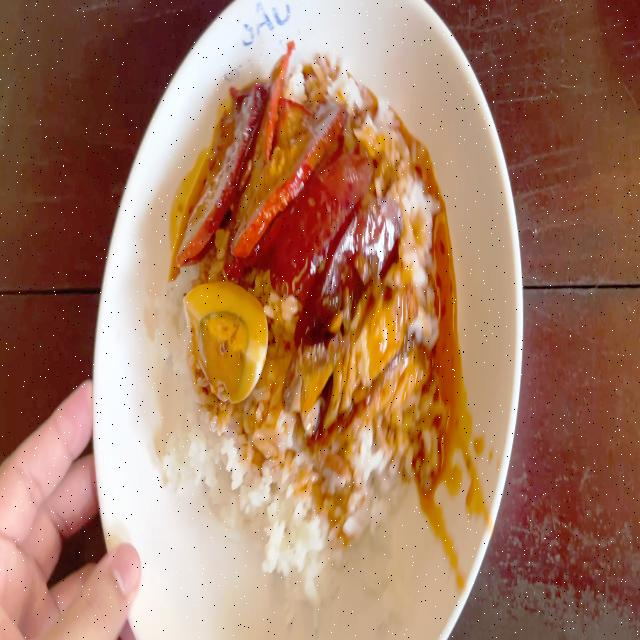boiled_egg: (183, 285, 266, 394)
chainese_sausage: (274, 159, 408, 315)
crispy_pork: (298, 290, 425, 444)
red_pork: (174, 70, 281, 254), (266, 106, 342, 183)
red_pork_and_crispy_pork: (159, 62, 453, 599)
rice: (171, 407, 294, 553), (290, 445, 397, 566)
